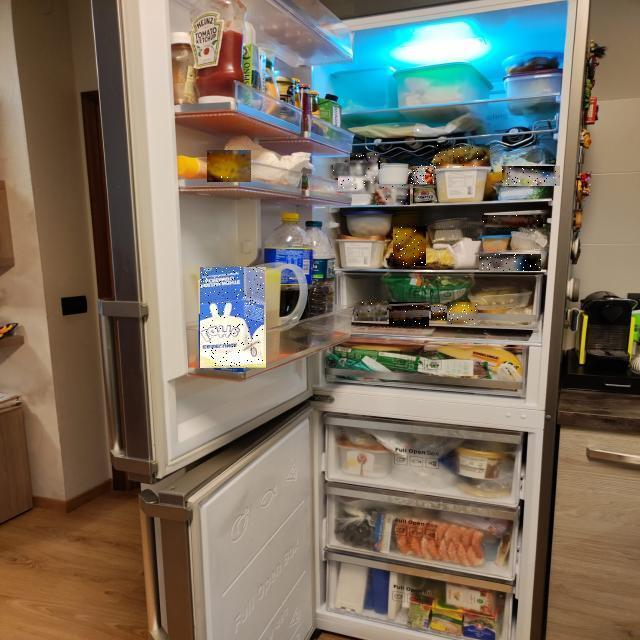Cheese: (393, 226, 426, 266), (434, 145, 490, 166), (502, 166, 560, 186), (479, 254, 541, 271), (413, 188, 437, 203)
Ham: (482, 215, 543, 227)
Lemon: (207, 150, 251, 182), (447, 302, 478, 324), (431, 304, 447, 320)
Milk: (201, 267, 267, 368)
Olives: (389, 302, 429, 326), (354, 301, 387, 321)
Yoghurt: (375, 184, 410, 205), (333, 164, 378, 180), (408, 165, 436, 185), (338, 179, 378, 193), (351, 153, 381, 169)
